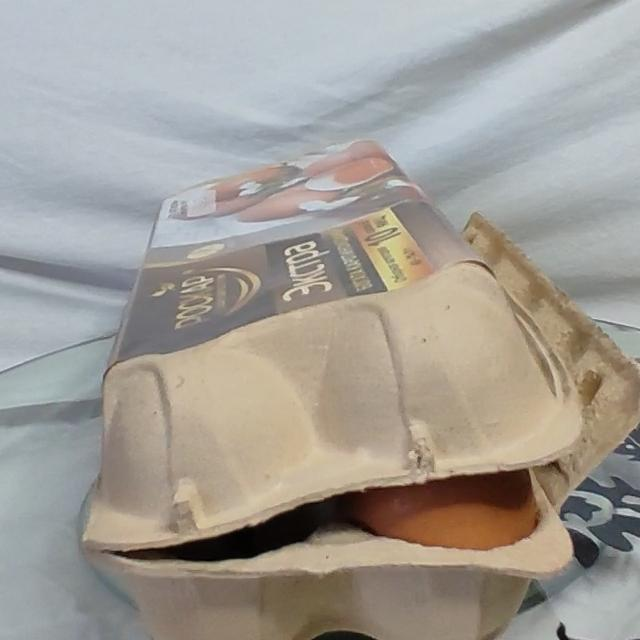egg: (40, 120, 630, 640)
